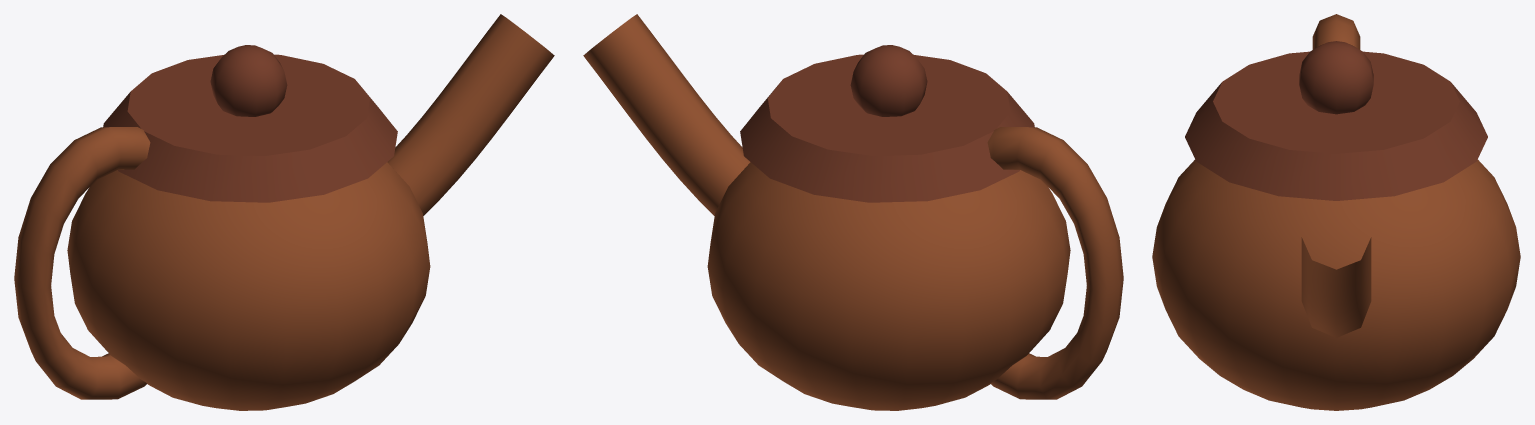
The model's file is teapot.glb.
3 renders of one model, left to right at view 1: azimuth 30°, elevation 25°; view 2: azimuth 150°, elevation 25°; view 3: azimuth 270°, elevation 25°, orthographic.
Parts seen in each view (by area): view 1: teapot; view 2: teapot; view 3: teapot.
Part boxes in pixels (x1,y1,x2,y2): teapot: (14, 14, 554, 410); teapot: (583, 14, 1123, 410); teapot: (1152, 14, 1520, 410).
Size of the model in its own units: 0.2853 by 0.176 by 0.17.
